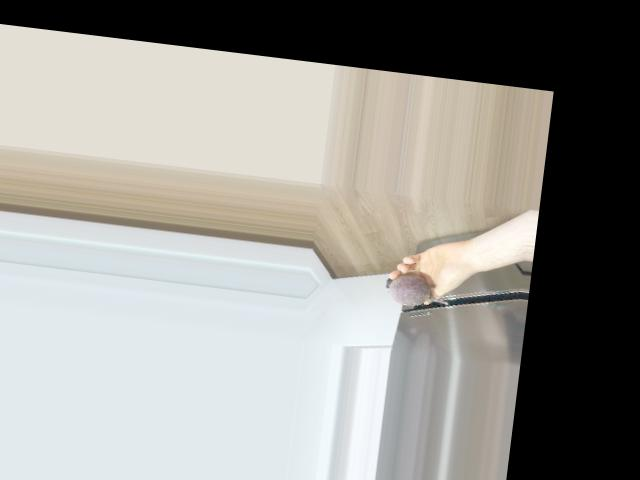beet: (383, 271, 450, 309)
